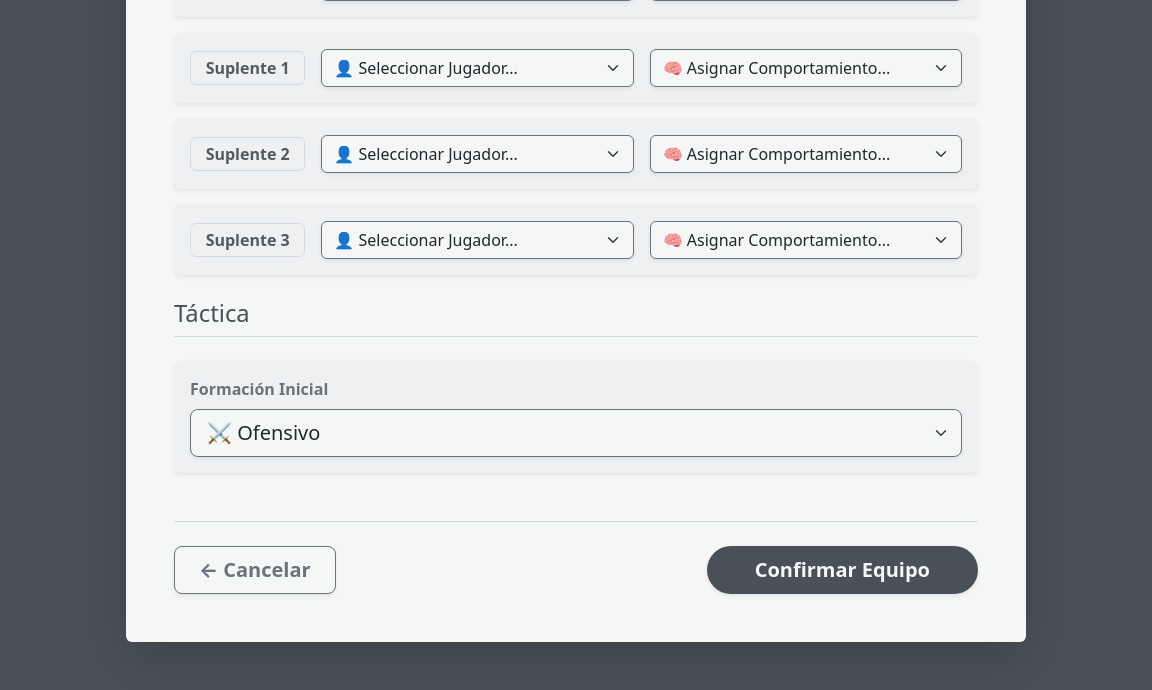
Test case: ArmarEquipo Logic Container › muestra error de validación interactiva si se intenta confirmar sin asignar a todos
(page scrolled)
Click the button "Confirmar Equipo". click: {"x": 842, "y": 570}
box: [707,546,978,594]
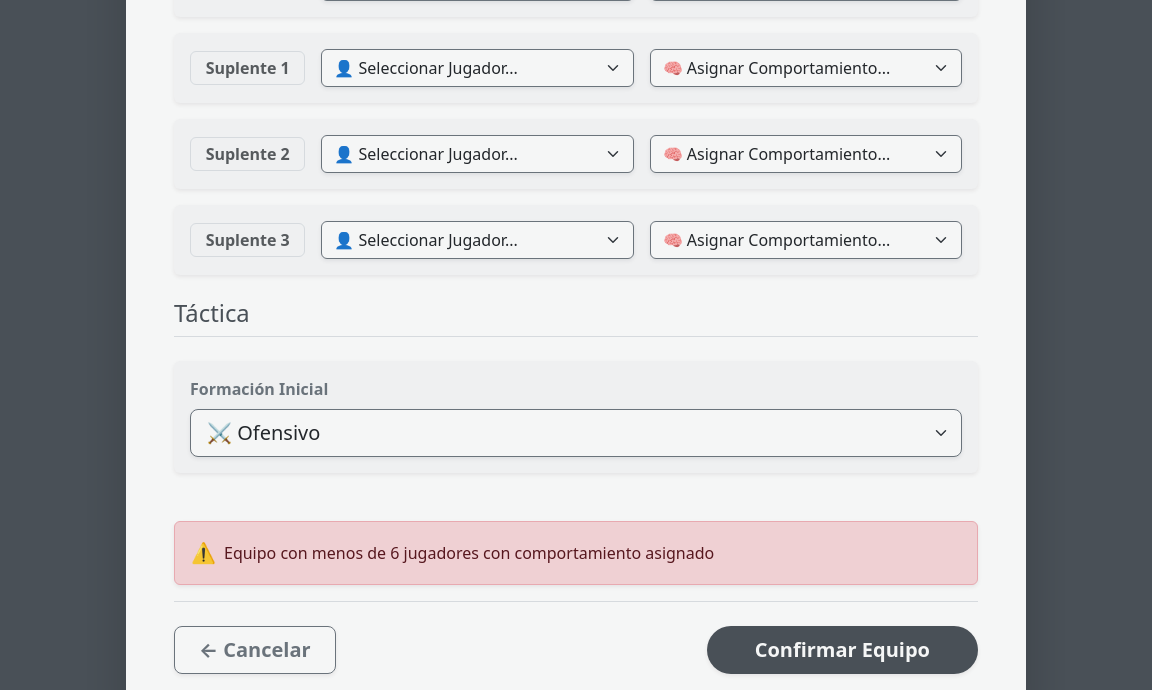
Check: the text "Equipo con menos de 6 jugadores con comportamiento asignado" is shown, box [224,542,714,564]
